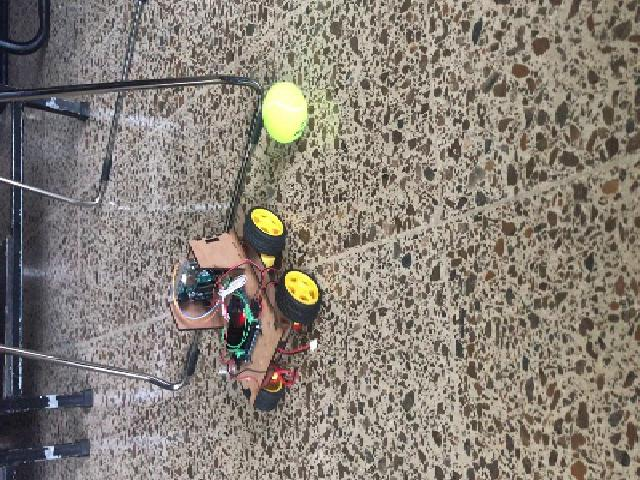Ball: (261, 82, 307, 143)
Robot: (170, 208, 320, 412)
